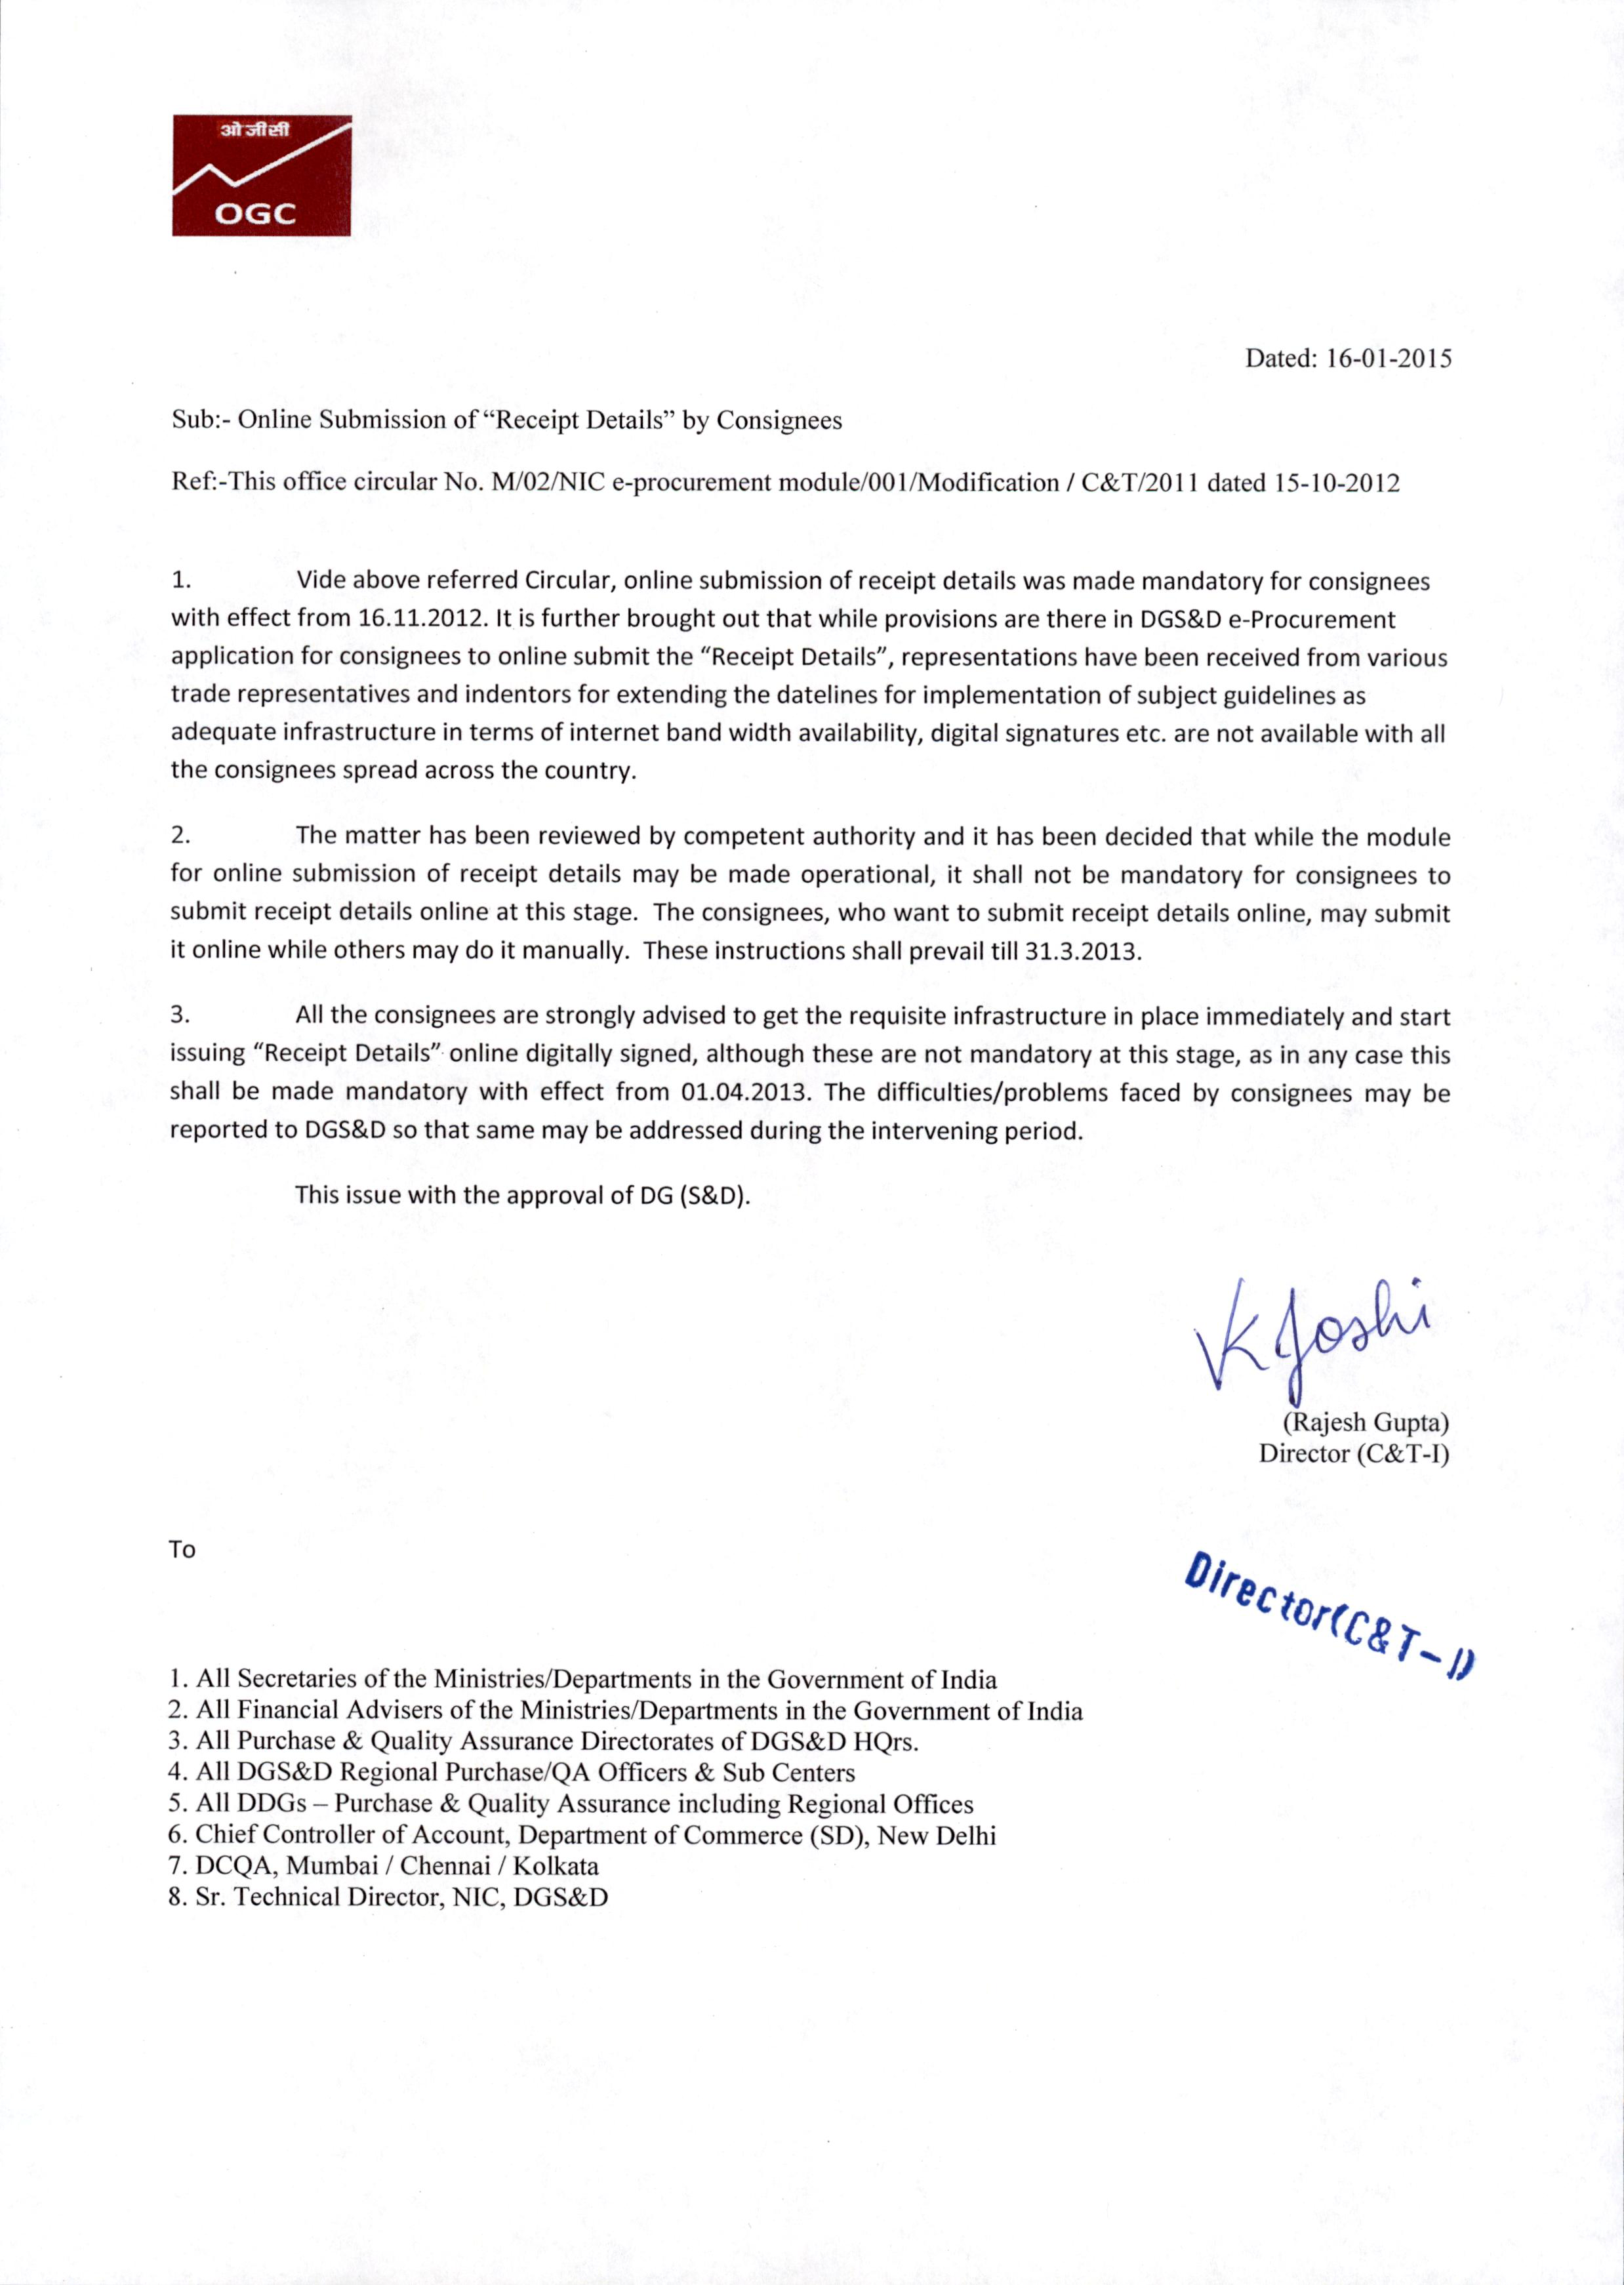Signature: (1181, 1260, 1434, 1410)
